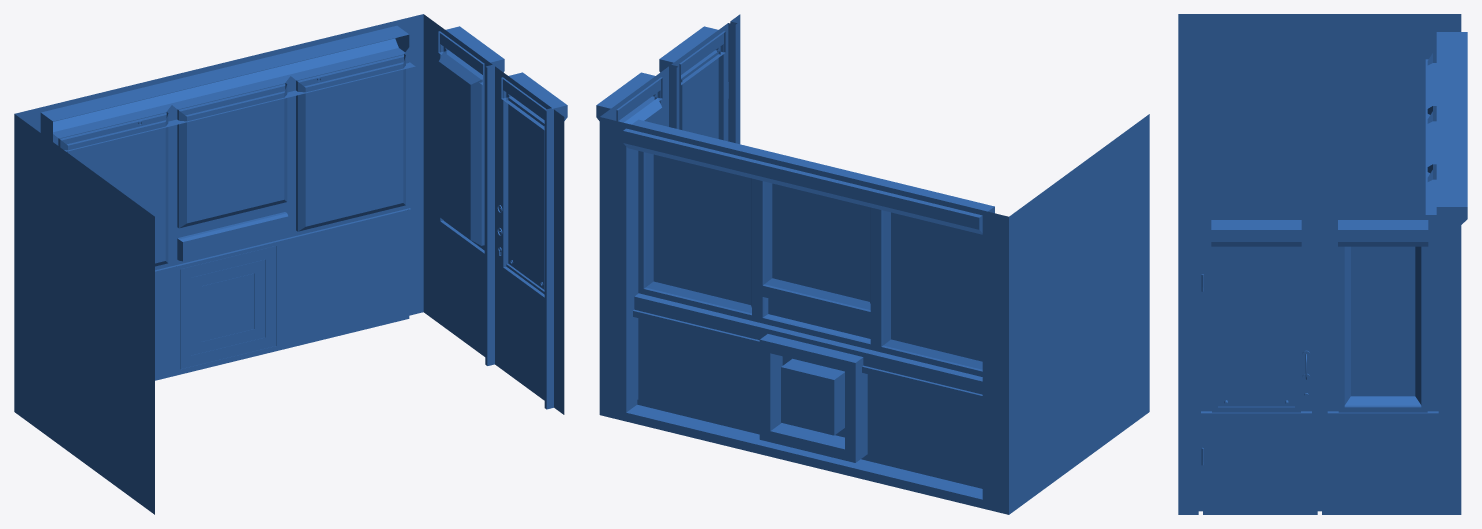
Rendered from SM_Kiosk_Front.fbx.
3 views of the same model, side by side, from view 1: azimuth 30°, elevation 25°; view 2: azimuth 150°, elevation 25°; view 3: azimuth 270°, elevation 25° (orthographic).
Visible parts, largest first — view 1: SM_Kiosk_Front; view 2: SM_Kiosk_Front; view 3: SM_Kiosk_Front.
Part boxes in pixels (x1=…): SM_Kiosk_Front: x1=14, y1=14, x2=567, y2=514; SM_Kiosk_Front: x1=596, y1=14, x2=1149, y2=514; SM_Kiosk_Front: x1=1178, y1=14, x2=1467, y2=514.
Bounding box in the file's own units: 4036 × 2681 × 2343.
